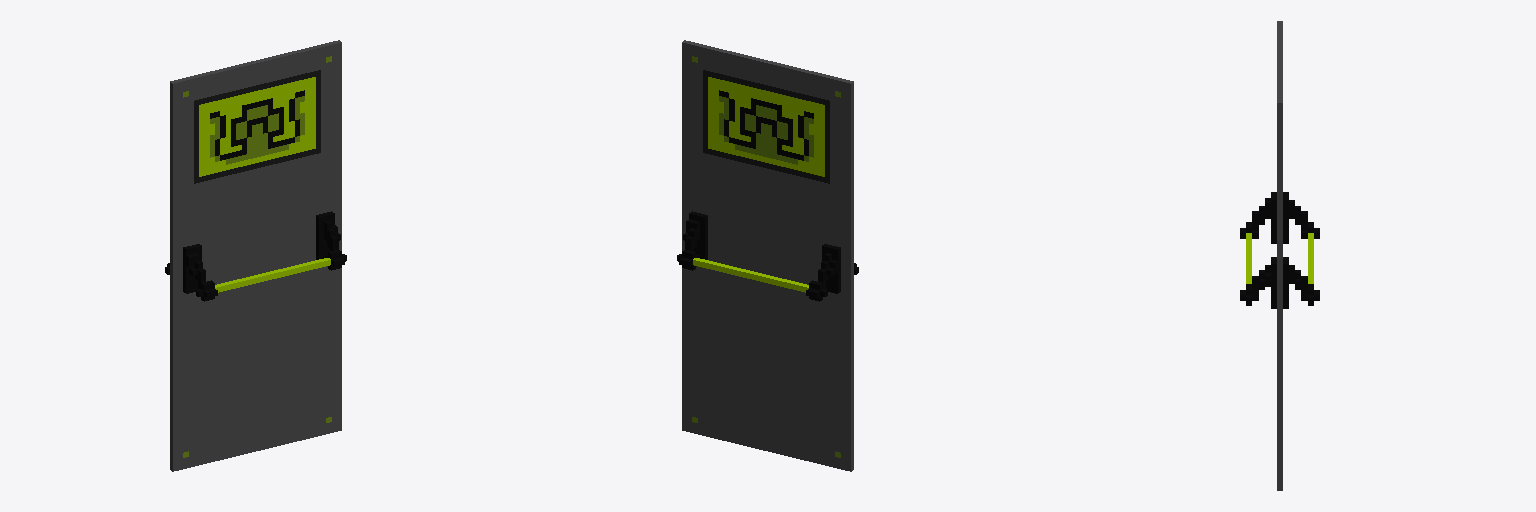
3 renders of one model, left to right at view 1: azimuth 30°, elevation 25°; view 2: azimuth 150°, elevation 25°; view 3: azimuth 270°, elevation 25°, orthographic.
Parts seen in each view (by area): view 1: object 1; view 2: object 1; view 3: object 1.
Boxes of the visible parts, x1=… form: object 1: x1=165, y1=40, x2=346, y2=471; object 1: x1=677, y1=40, x2=858, y2=471; object 1: x1=1240, y1=21, x2=1319, y2=490.
Bounding box in the file's own units: 3.2 × 7 × 1.3.
Materials: 1 (1 with a texture image).